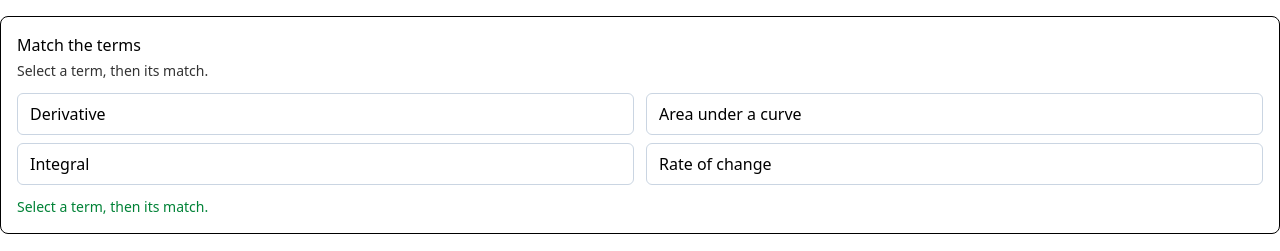
Test: MatchingPairs › selecting a correct pair marks both matched and announces it
Expected: the text "Derivative" is shown, [30, 103, 106, 125]
Click the button "Derivative".
click(68, 114)  # box [17, 93, 634, 135]
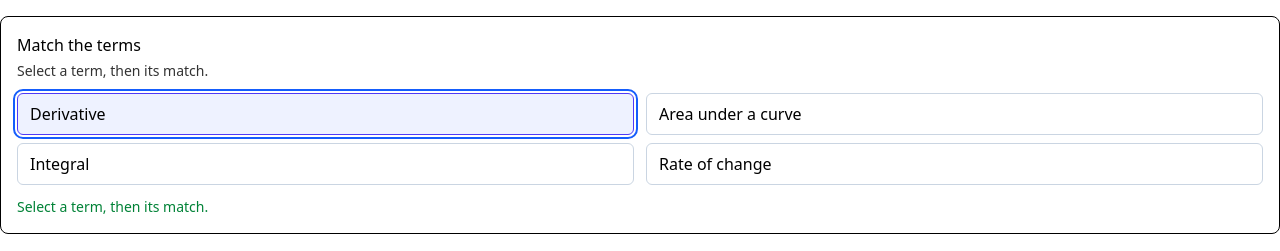
Click the button "Rate of change".
click(715, 164)  # box [646, 143, 1263, 185]
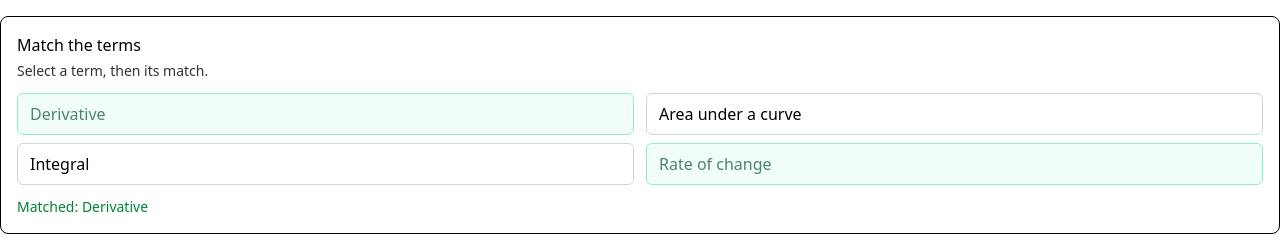
Expected: the button "Derivative" is disabled, [17, 93, 634, 135]
Expected: the button "Rate of change" is disabled, [646, 143, 1263, 185]
Expected: the message reads "Matched: Derivative", [17, 197, 148, 216]
